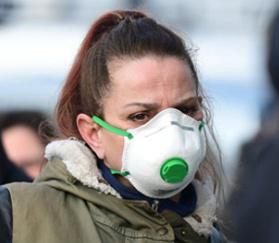OK: (109, 78, 206, 198)
